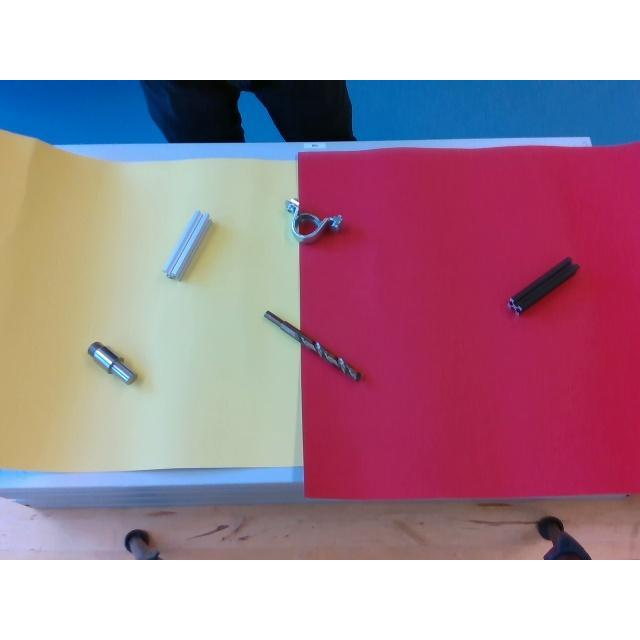Axis2: (86, 341, 138, 385)
Drill: (264, 312, 360, 380)
F20_20_B: (508, 258, 580, 312)
F20_20_G: (162, 210, 210, 278)
Housing: (293, 201, 343, 241)
